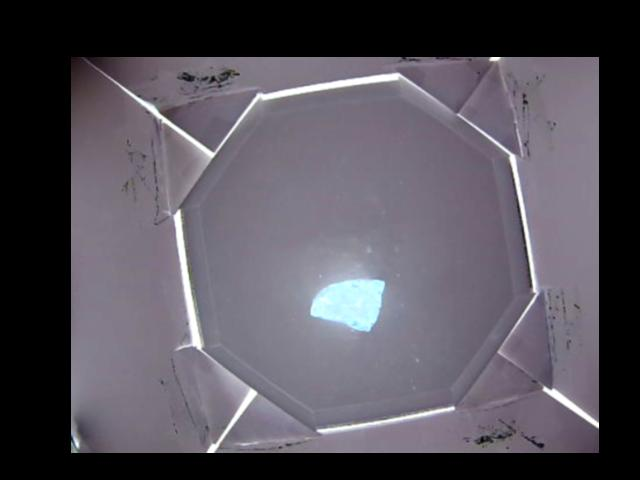Brisk: (311, 278, 385, 331)
